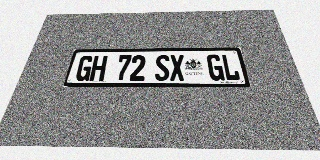2: (130, 55, 146, 81)
7: (115, 55, 132, 81)
G: (206, 54, 225, 81), (74, 56, 94, 81)
H: (89, 55, 108, 81)
L: (221, 54, 241, 81)
S: (155, 55, 169, 81)
X: (170, 55, 185, 81)
